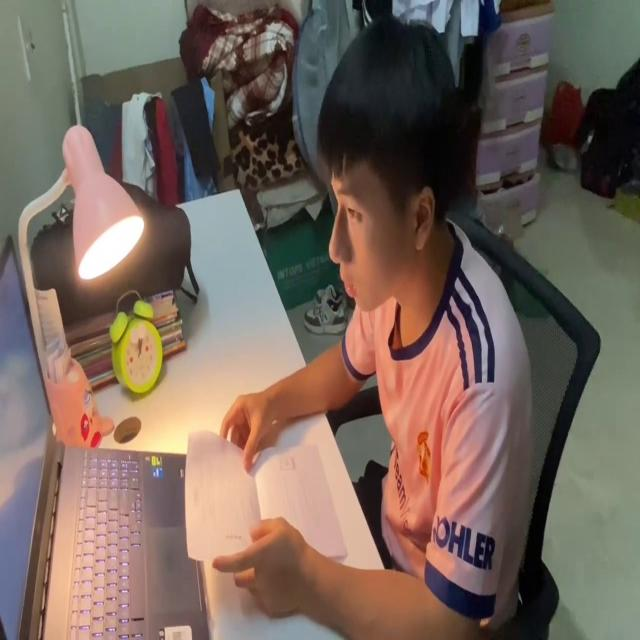book: (185, 414, 350, 561)
laptop: (0, 226, 212, 640)
student: (215, 9, 530, 640)
